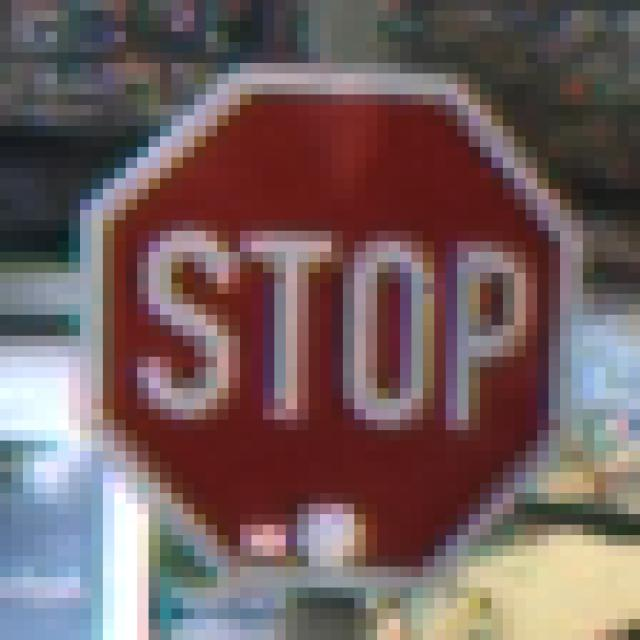STOP: (69, 64, 584, 588)
